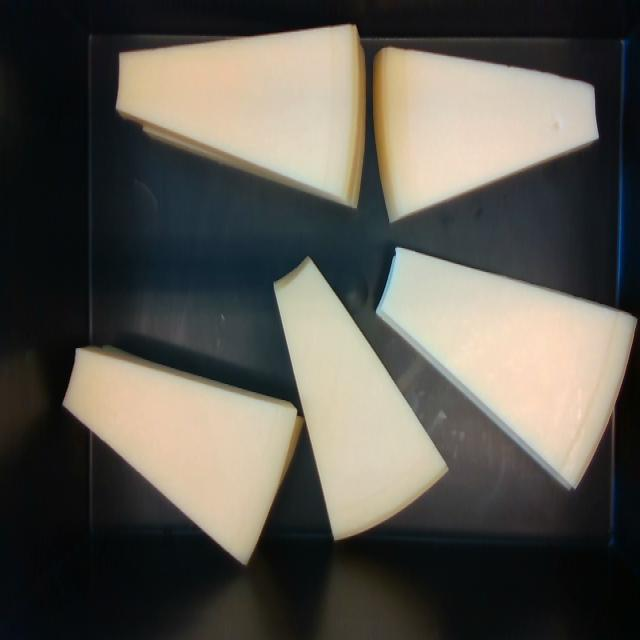Cheese: (377, 248, 634, 487), (64, 351, 298, 560), (274, 259, 447, 539), (116, 25, 365, 204), (374, 48, 597, 220)
